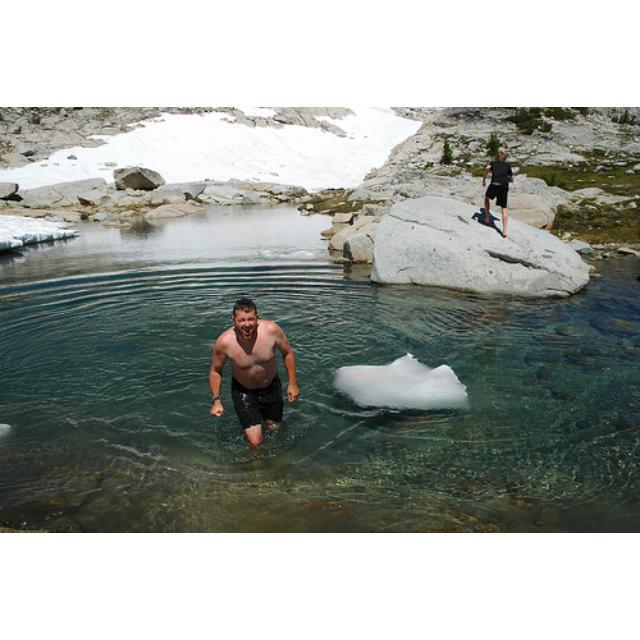human: (206, 293, 295, 450)
